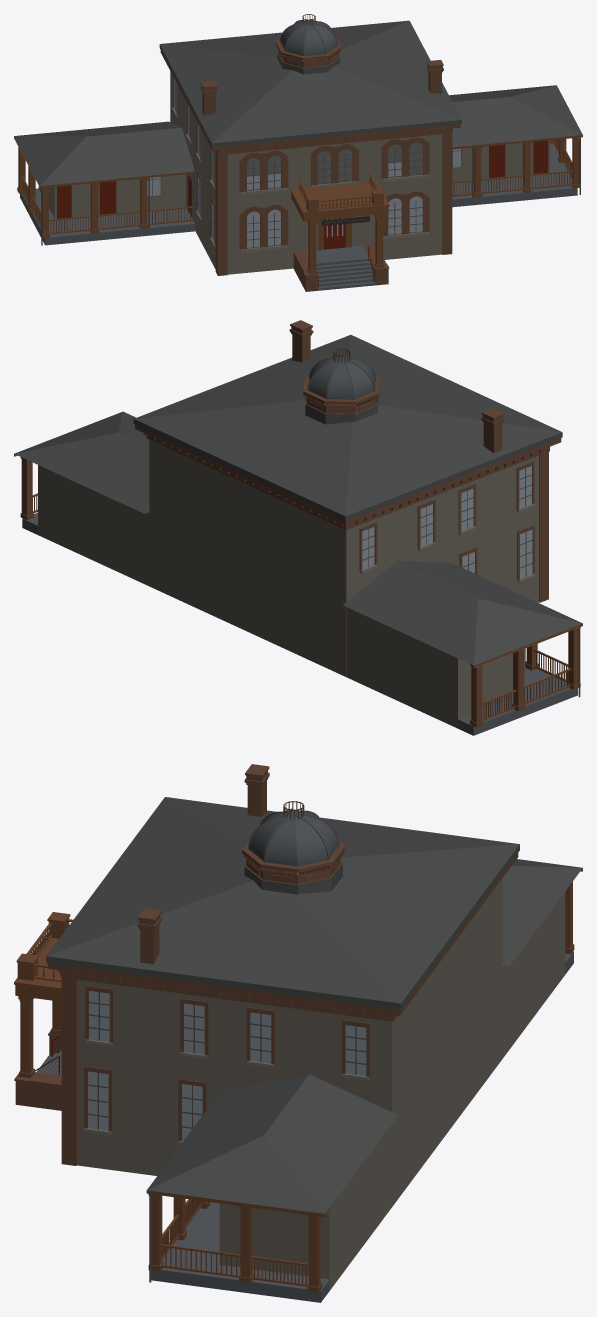
The picture shows the model from 3 angles, top to bottom: view 1: azimuth 30°, elevation 25°; view 2: azimuth 150°, elevation 25°; view 3: azimuth 270°, elevation 25°; orthographic projection. The views are drawn at different scales.
Visible parts, largest first — view 1: opaque, glass; view 2: opaque, glass; view 3: opaque, glass.
Part boxes in pixels (box(x1,y1,x2,y2)): opaque: box(14, 14, 582, 291); glass: box(147, 78, 460, 247); opaque: box(14, 320, 582, 735); glass: box(362, 466, 532, 578); opaque: box(14, 764, 582, 1302); glass: box(88, 991, 366, 1140).
Bounding box in the file's own units: 37.93 × 14.69 × 24.66.
Materials: 2 (1 with a texture image).
